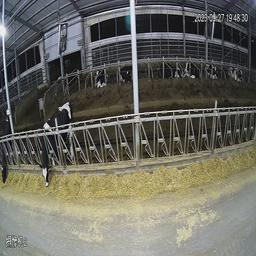cow: (33, 95, 81, 193), (156, 52, 181, 89), (184, 52, 205, 84), (114, 52, 132, 89), (228, 55, 249, 86), (207, 54, 222, 87), (90, 65, 108, 92)
